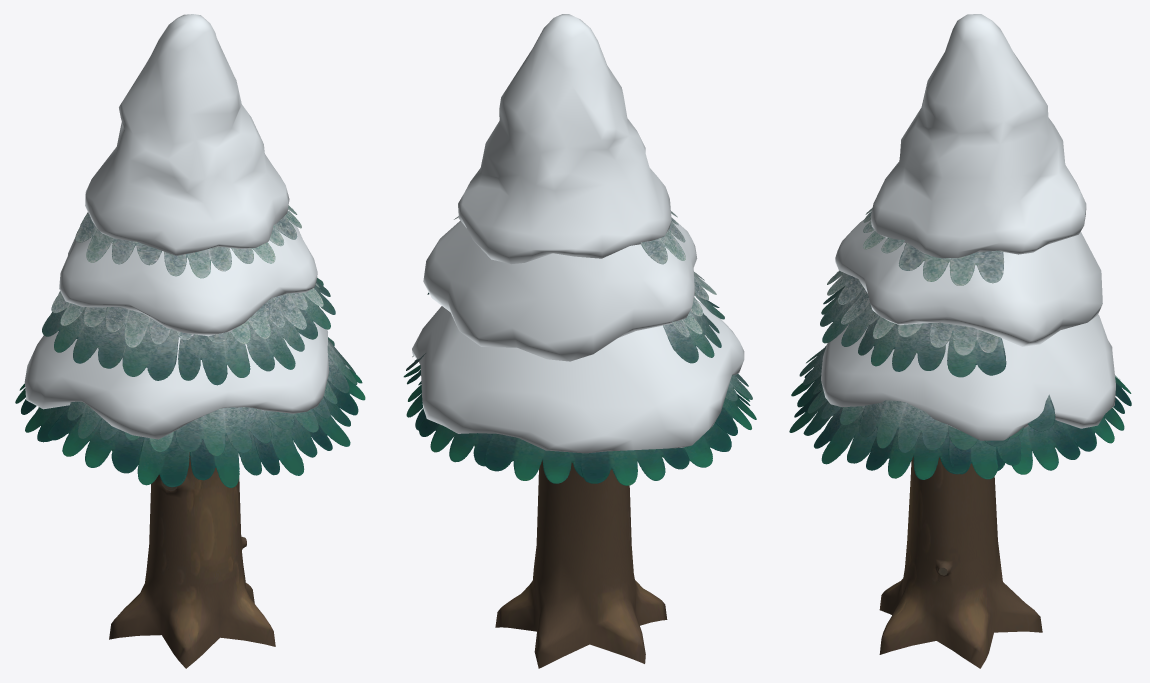
File: tree-cedar-snow.glb
3 views of the same model, side by side, from view 1: azimuth 30°, elevation 25°; view 2: azimuth 150°, elevation 25°; view 3: azimuth 270°, elevation 25° (orthographic). The views are drawn at different scales.
Visible parts, largest first — view 1: SnowDown__mCedarSnowCap, DDLeafS_L13_1__mPltTreeCedarLeafSnow, group135_pCone23__mTreeCedarTrunkSnow; view 2: SnowDown__mCedarSnowCap, group135_pCone23__mTreeCedarTrunkSnow, DDLeafS_L13_1__mPltTreeCedarLeafSnow; view 3: SnowDown__mCedarSnowCap, DDLeafS_L13_1__mPltTreeCedarLeafSnow, group135_pCone23__mTreeCedarTrunkSnow.
Boxes of the visible parts, box(x1,y1,x2,y2) form: SnowDown__mCedarSnowCap: box(24, 14, 329, 439); DDLeafS_L13_1__mPltTreeCedarLeafSnow: box(15, 205, 365, 487); group135_pCone23__mTreeCedarTrunkSnow: box(109, 452, 275, 668); SnowDown__mCedarSnowCap: box(412, 14, 744, 453); group135_pCone23__mTreeCedarTrunkSnow: box(495, 460, 667, 668); DDLeafS_L13_1__mPltTreeCedarLeafSnow: box(403, 211, 756, 485); SnowDown__mCedarSnowCap: box(821, 14, 1115, 440); DDLeafS_L13_1__mPltTreeCedarLeafSnow: box(789, 208, 1131, 479); group135_pCone23__mTreeCedarTrunkSnow: box(879, 456, 1042, 668).
Bounding box in the file's own units: 2.17 × 4.05 × 2.06.
3 materials, 2 textured.
